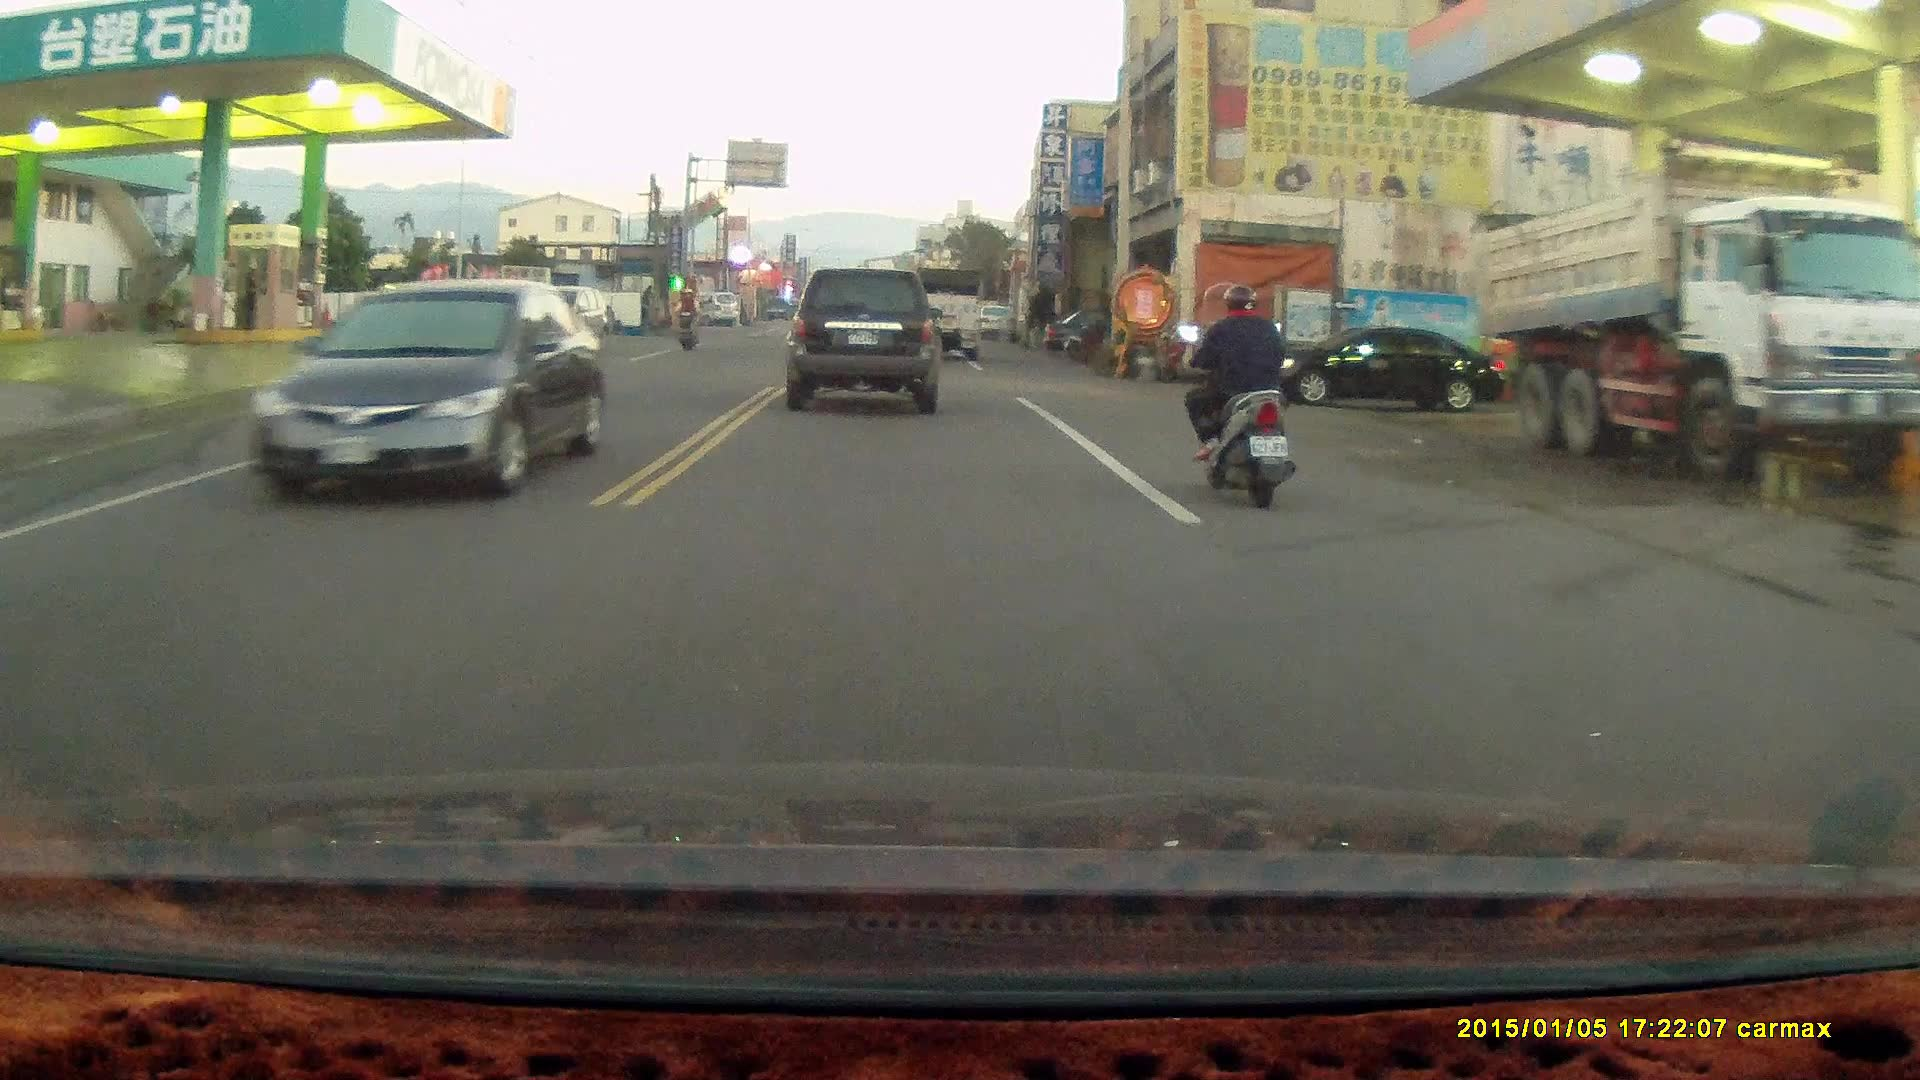rider: (1175, 277, 1295, 510), (670, 285, 699, 351)
vehicle: (1470, 145, 1915, 476), (233, 281, 599, 514), (787, 264, 943, 416), (1282, 324, 1500, 412), (908, 267, 985, 360)
